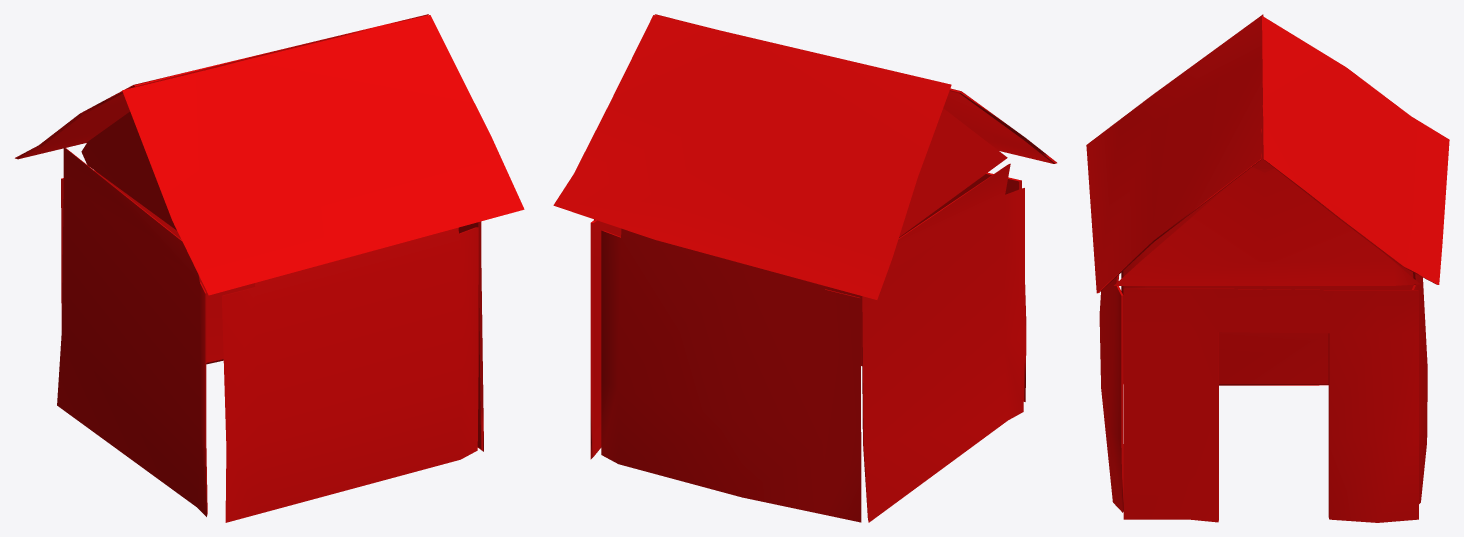
The model's file is Hut_02_Metal.fbx.
3 renders of one model, left to right at view 1: azimuth 30°, elevation 25°; view 2: azimuth 150°, elevation 25°; view 3: azimuth 270°, elevation 25°, orthographic. The views are drawn at different scales.
Parts seen in each view (by area): view 1: Hut_02_Metal; view 2: Hut_02_Metal; view 3: Hut_02_Metal.
Boxes of the visible parts, <box> form: Hut_02_Metal: <box>15,14,524,522</box>; Hut_02_Metal: <box>553,14,1056,522</box>; Hut_02_Metal: <box>1086,14,1449,522</box>.
Bounding box in the file's own units: 412 × 460 × 407.
